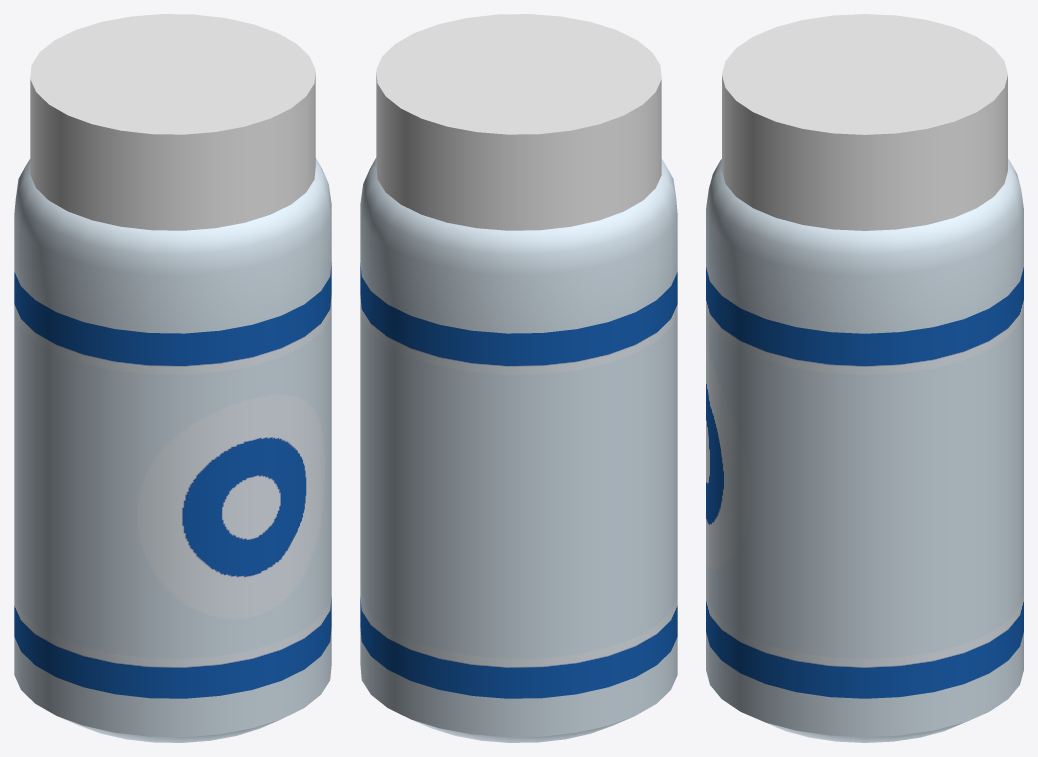
The model's file is Salt.fbx.
3 views of the same model, side by side, from view 1: azimuth 30°, elevation 25°; view 2: azimuth 150°, elevation 25°; view 3: azimuth 270°, elevation 25° (orthographic).
Parts seen in each view (by area): view 1: Salt; view 2: Salt; view 3: Salt.
Part boxes in pixels (box(x1,y1,x2,y2)): Salt: box(14, 14, 331, 742); Salt: box(360, 14, 677, 742); Salt: box(706, 14, 1023, 742).
Size of the model in its own units: 0.06 by 0.128 by 0.06.
Materials: 3 (1 with a texture image).
